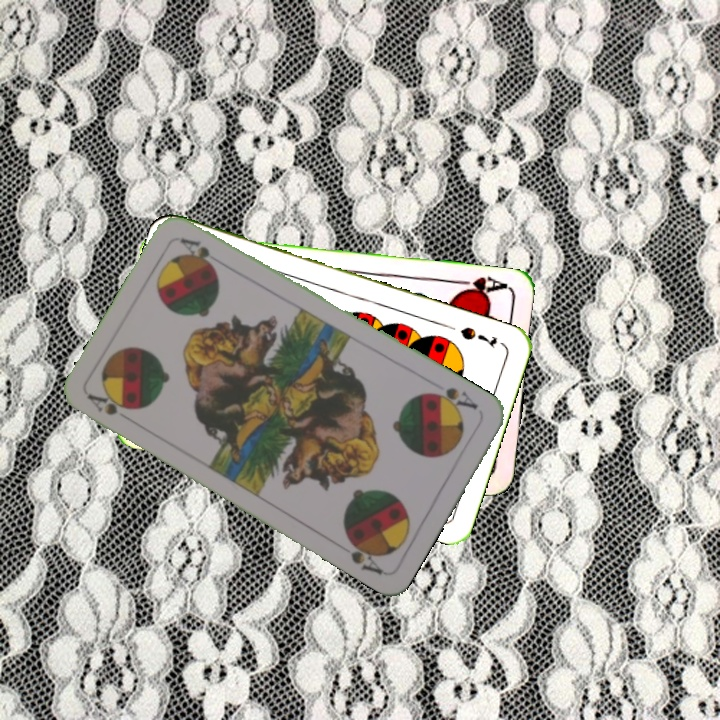HA: (452, 272, 511, 300)
S7: (456, 323, 500, 350)
SA: (83, 390, 138, 426), (424, 383, 481, 415)
